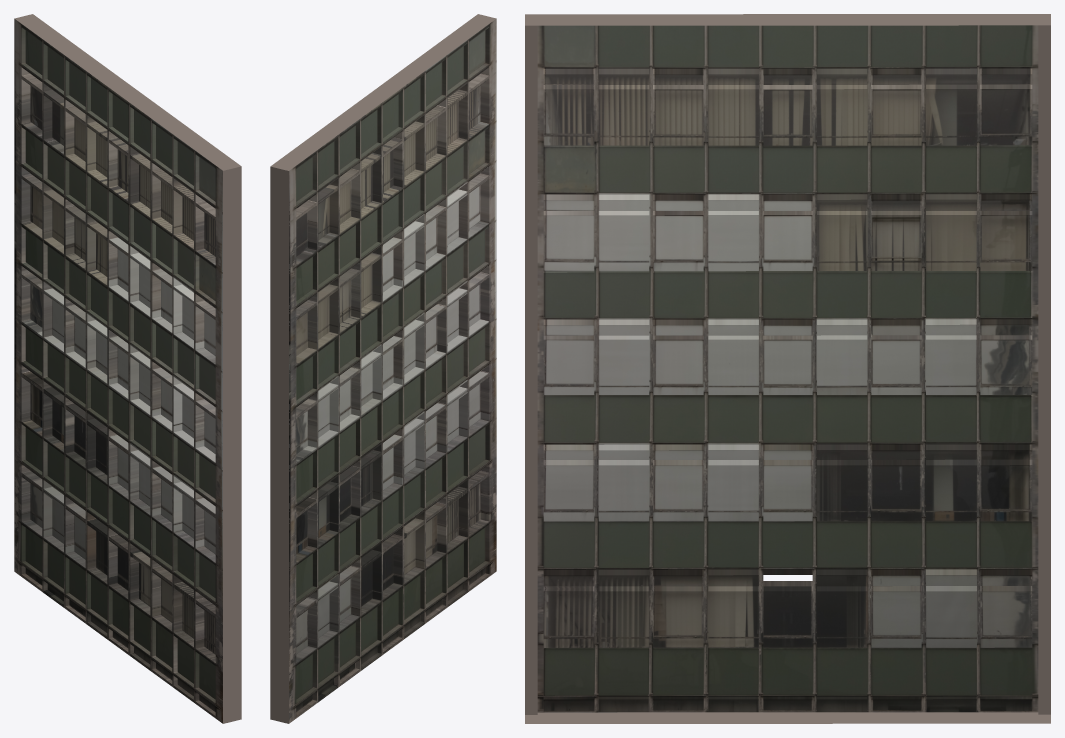
File: facade1.fbx
The picture shows the model from 3 angles, left to right: view 1: azimuth 30°, elevation 25°; view 2: azimuth 150°, elevation 25°; view 3: azimuth 270°, elevation 25°; orthographic projection. The views are drawn at different scales.
Visible parts, largest first — view 1: facade 1.001; view 2: facade 1.001; view 3: facade 1.001.
Part boxes in pixels (x1,y1,x2,y2): facade 1.001: (14, 14, 241, 723); facade 1.001: (270, 14, 496, 723); facade 1.001: (525, 14, 1050, 723).
Bounding box in the file's own units: 3.38 × 93.83 × 64.06.
2 materials, 2 textured.
